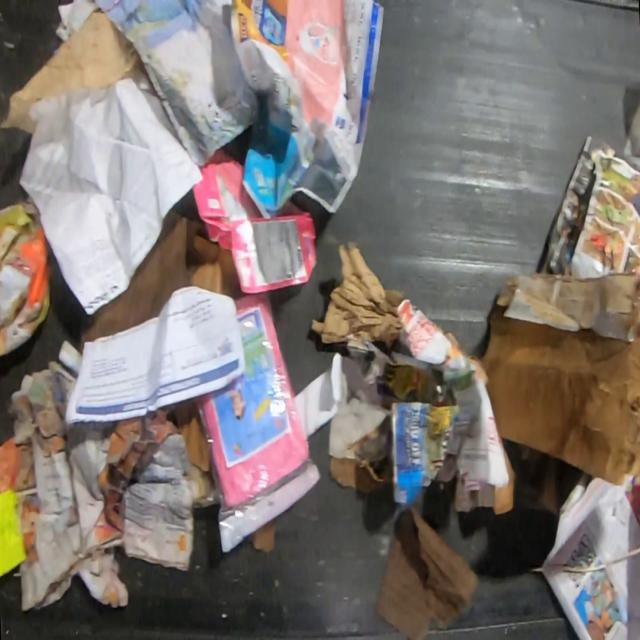cardboard: (484, 273, 640, 487), (81, 210, 245, 346), (194, 148, 318, 295), (377, 508, 479, 639), (310, 242, 403, 345), (0, 195, 52, 359), (172, 398, 212, 473)
soft_plastic: (195, 292, 322, 556), (620, 100, 640, 172)
